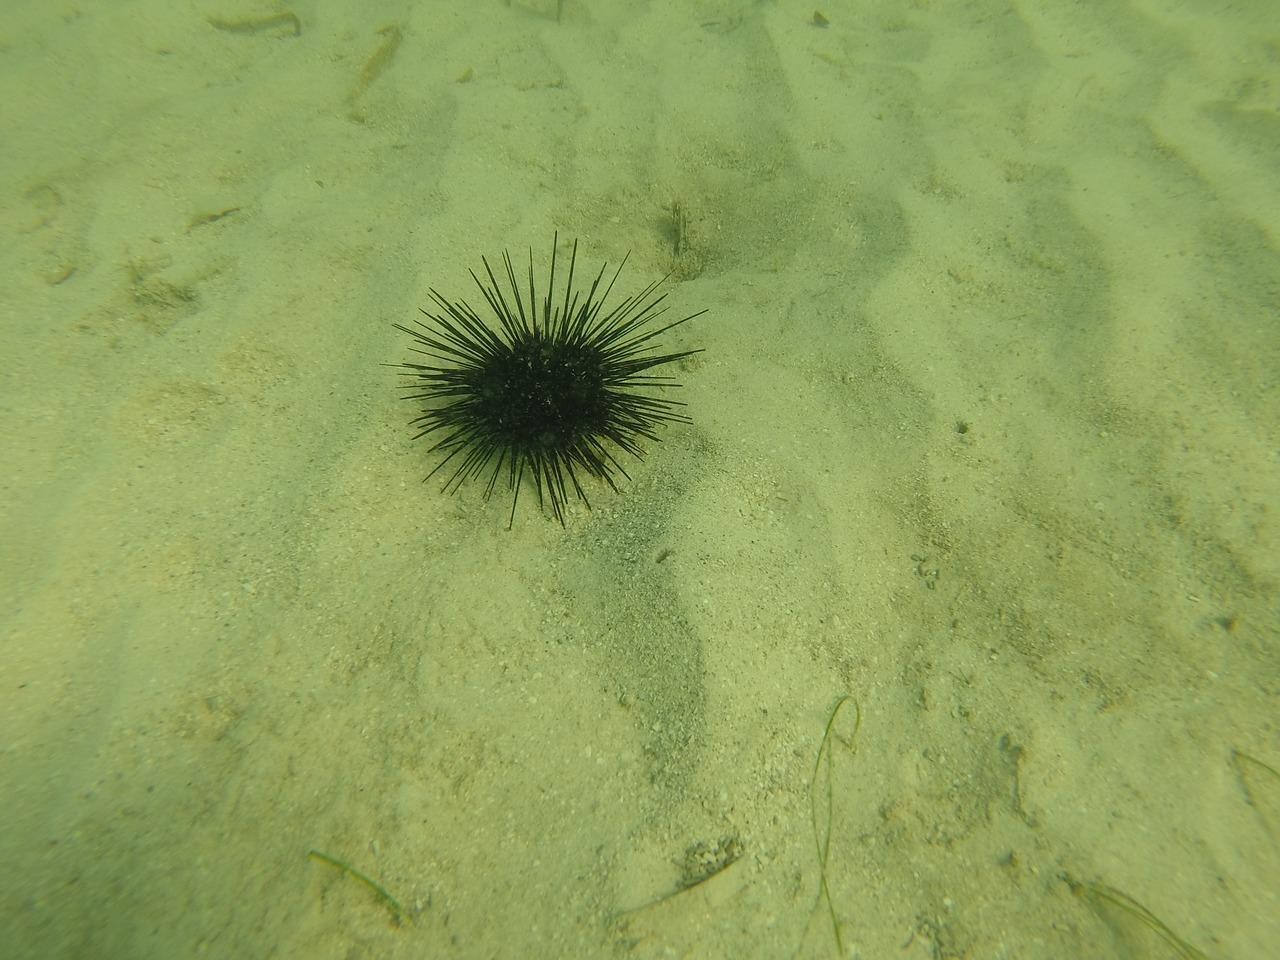urchin: (376, 229, 720, 546)
